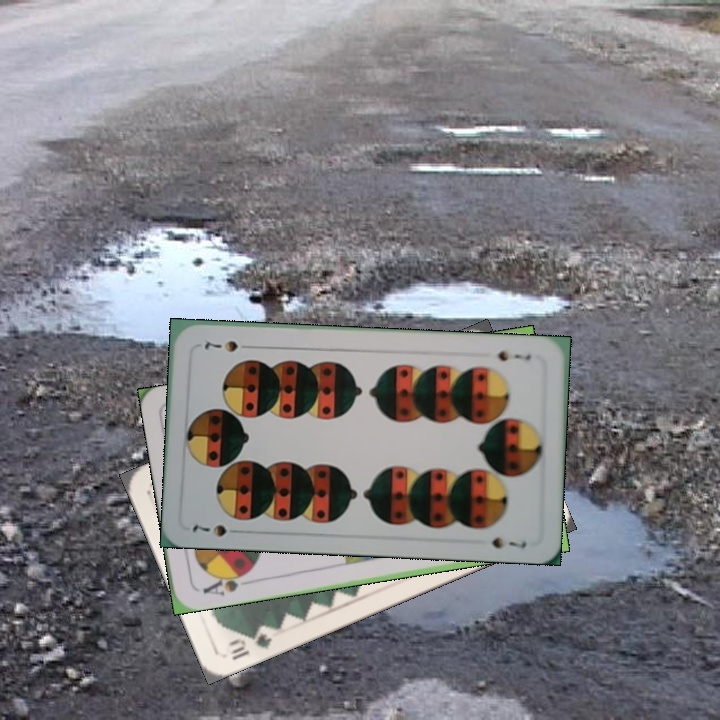G10: (224, 625, 275, 663)
S7: (189, 521, 245, 539), (494, 347, 533, 364)
SA: (198, 567, 254, 599)
